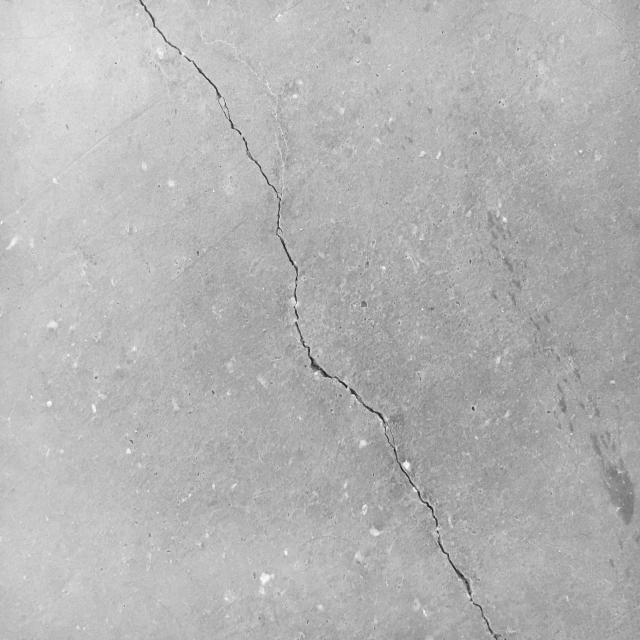SurfaceCrack: (71, 1, 541, 640)
